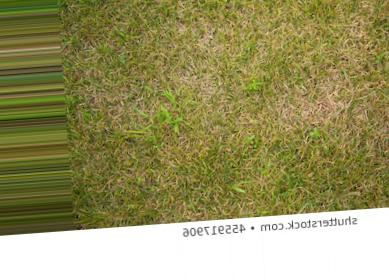patch: (185, 2, 272, 41), (276, 71, 340, 120), (194, 91, 249, 142), (157, 48, 228, 80), (332, 23, 382, 54), (100, 79, 136, 121), (328, 165, 377, 195), (258, 150, 293, 185), (155, 99, 181, 124), (251, 96, 271, 125)
